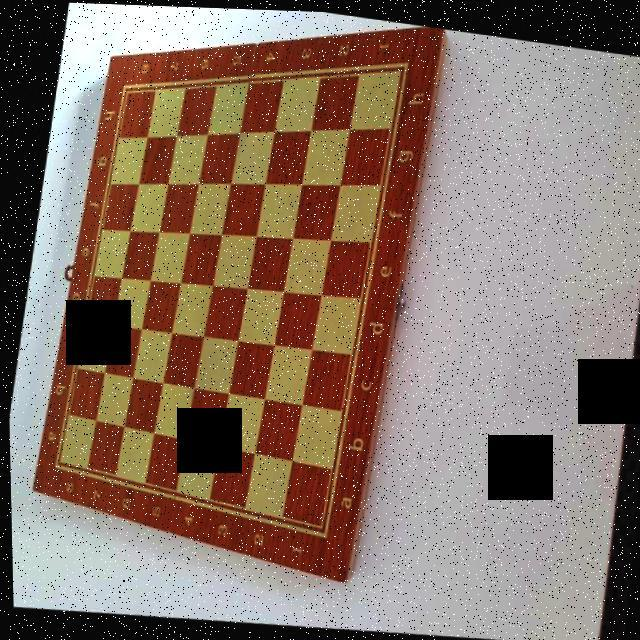chess-table-corners: (304, 512, 329, 548), (382, 54, 408, 88), (41, 451, 63, 482), (107, 75, 129, 103)
